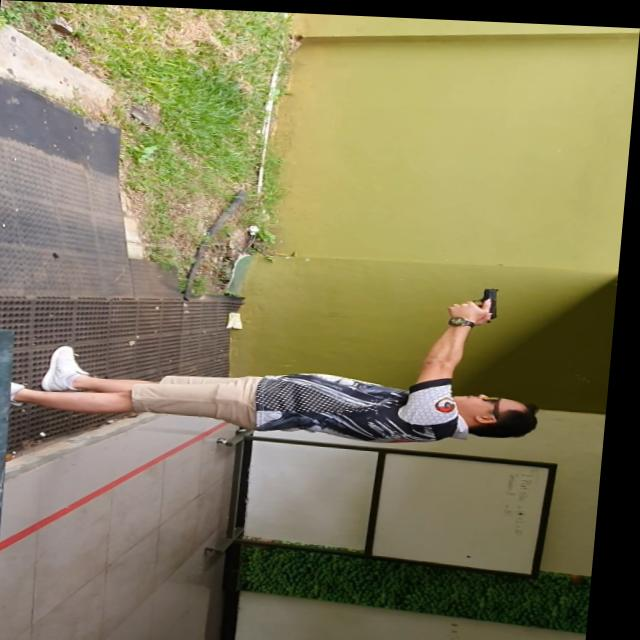handgun: (479, 281, 507, 316)
